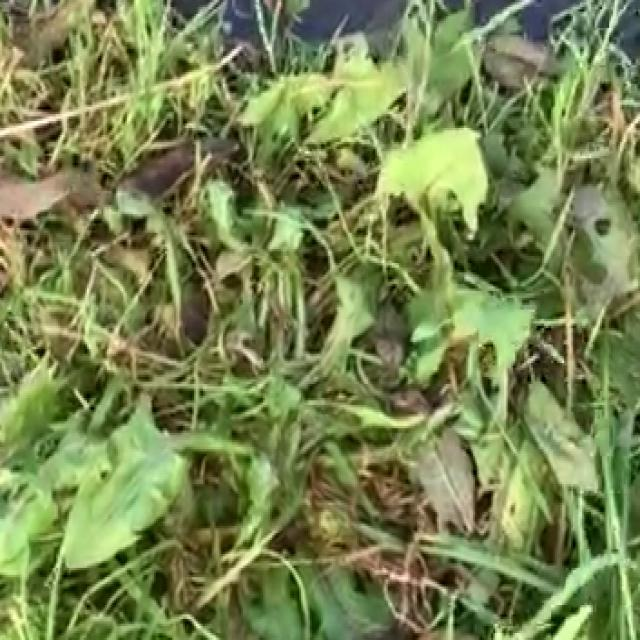organic waste: (264, 56, 606, 489), (9, 330, 321, 640)
